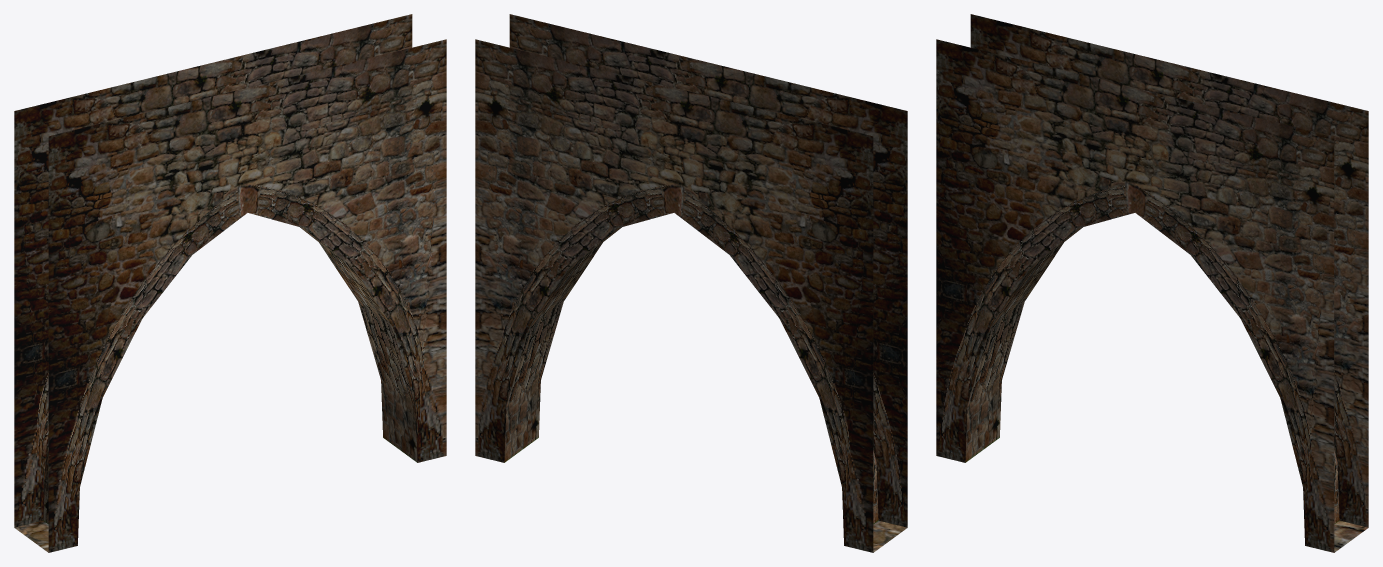
The model's file is Arch.FBX.
3 renders of one model, left to right at view 1: azimuth 30°, elevation 25°; view 2: azimuth 150°, elevation 25°; view 3: azimuth 330°, elevation 25°, orthographic.
Parts seen in each view (by area): view 1: arch_165; view 2: arch_165; view 3: arch_165.
Part boxes in pixels (x1,y1,x2,y2): arch_165: (14,14,446,552); arch_165: (475,14,907,552); arch_165: (936,14,1368,552).
Size of the model in its own units: 400 by 60 by 400.
